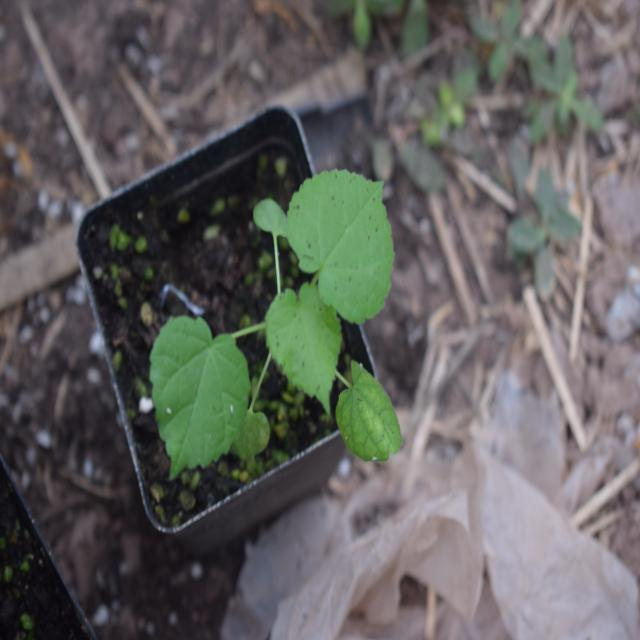abutilon theophrasti: (134, 163, 410, 475)
